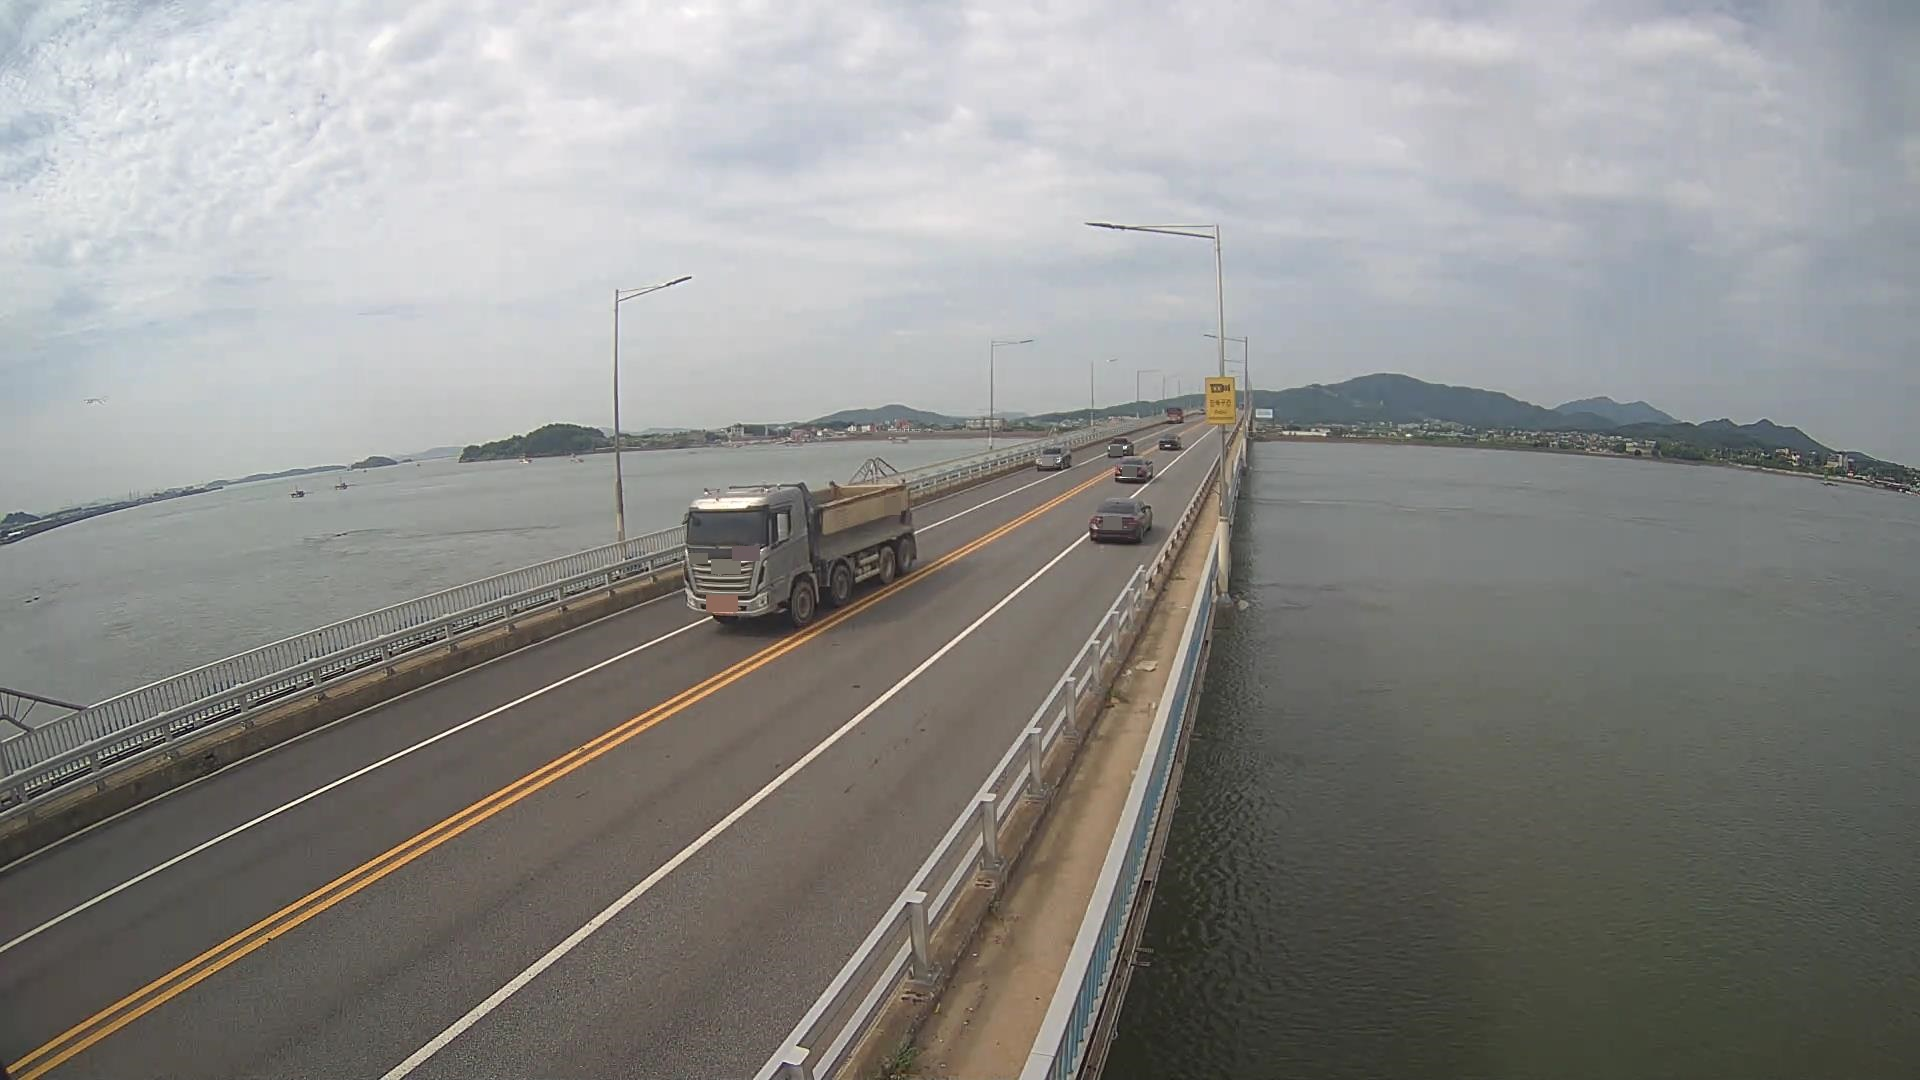정상차량: (682, 475, 918, 628)
